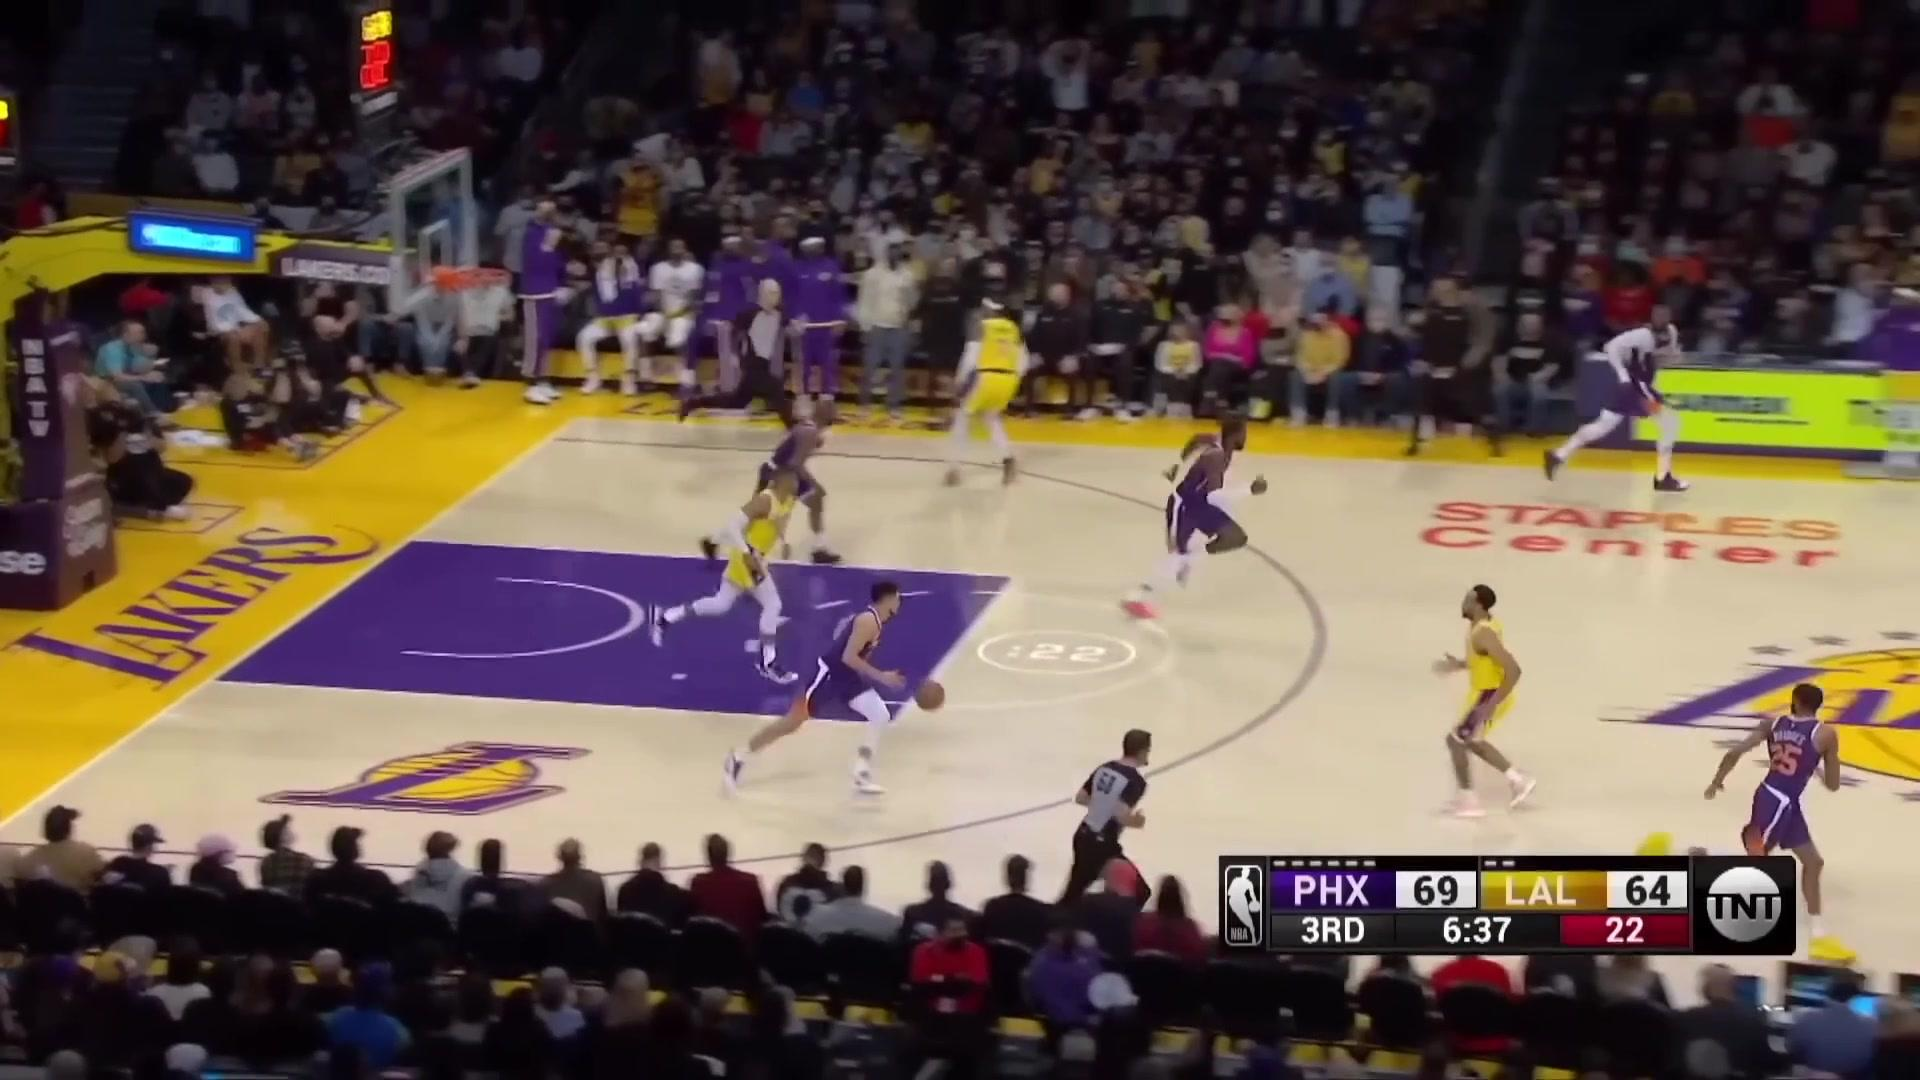no_foul: (657, 380, 841, 675)
